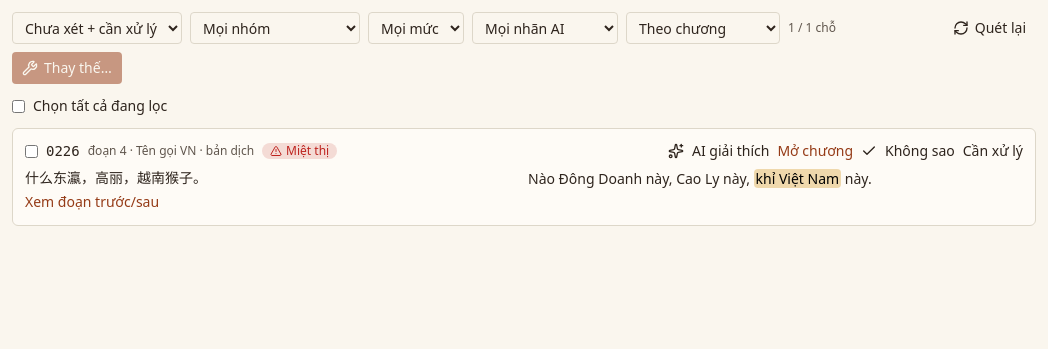
Test case: VnCheckPanel › chỗ đã chọn biến mất sau khi quét lại thì bị bỏ chọn, không quay lại khi nó xuất hiện lại
What coordinates should you click on to do the following:
click the checkbox named "Chọn 0226:4:khi-viet"
I would click on:
 (32, 151)
Its box is [25,144,38,158].
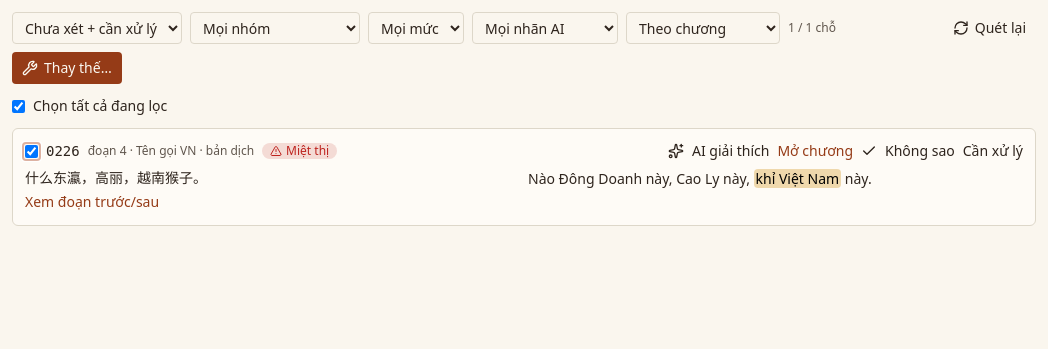
What coordinates should you click on to do the following:
click the button "Quét lại"
I would click on:
 (989, 28)
Its box is [943,12,1036,44].
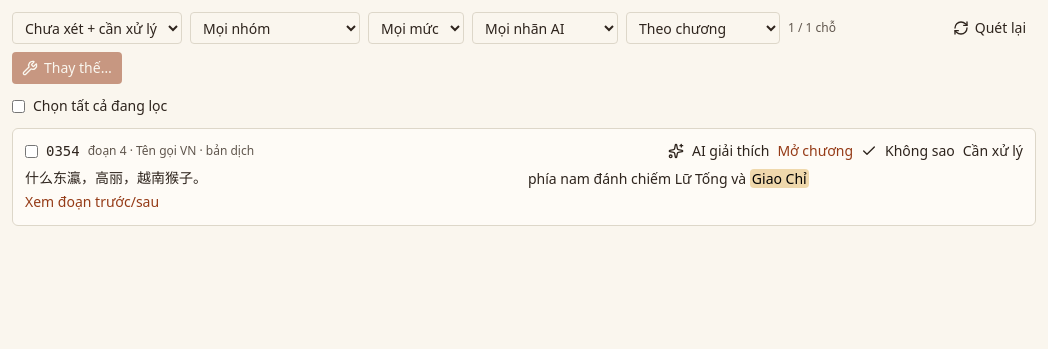
Expected: the text "0226" is gone
Expected: the button "Thay thế…" is disabled, [12,52,122,84]
What coordinates should you click on to do the following:
click the button "Quét lại"
I would click on:
 (989, 28)
Its box is [943,12,1036,44].
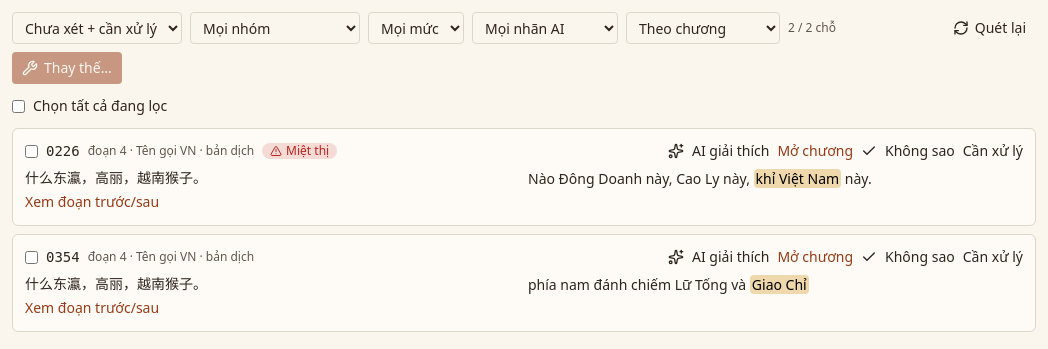
Expected: the checkbox named "Chọn 0226:4:khi-viet" is not checked, [25,144,38,158]
Expected: the text "0226" is shown, [46,141,80,161]
